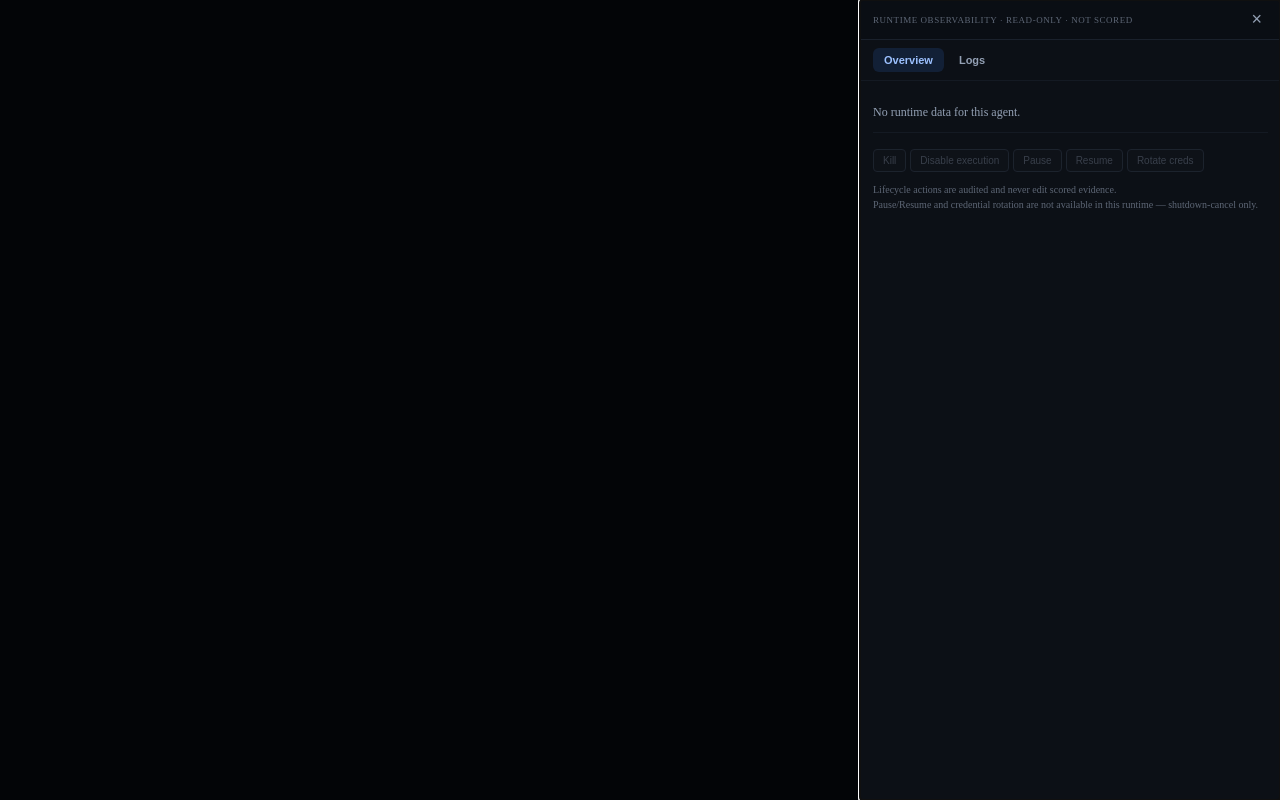
it: AgentOpsDrawer (REQ-030..032 / AC-003 / AC-030 / SEC-003 / F-6 live data) › HIDES OPS telemetry by default (canonical-only) and only shows it on explicit opt-in to All (#1 / SEC-003)
Click the tab "Logs" at [972, 60], box [948,48,996,72]
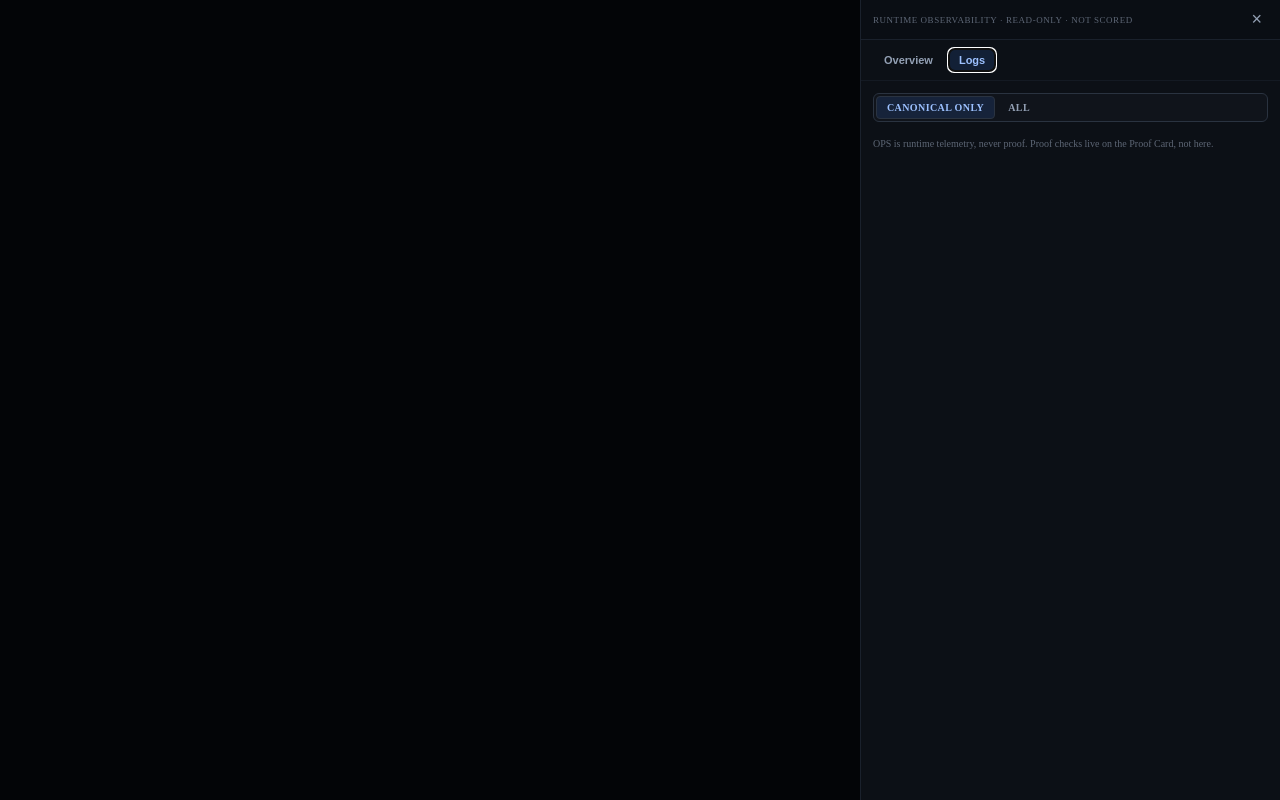
Expected: the element with test id "log" does not show "OPS"
explicit opt-in to the telemetry (All) view → OPS appears
Click the radio button labelled "All" at [1019, 108], box [997,96,1041,119]
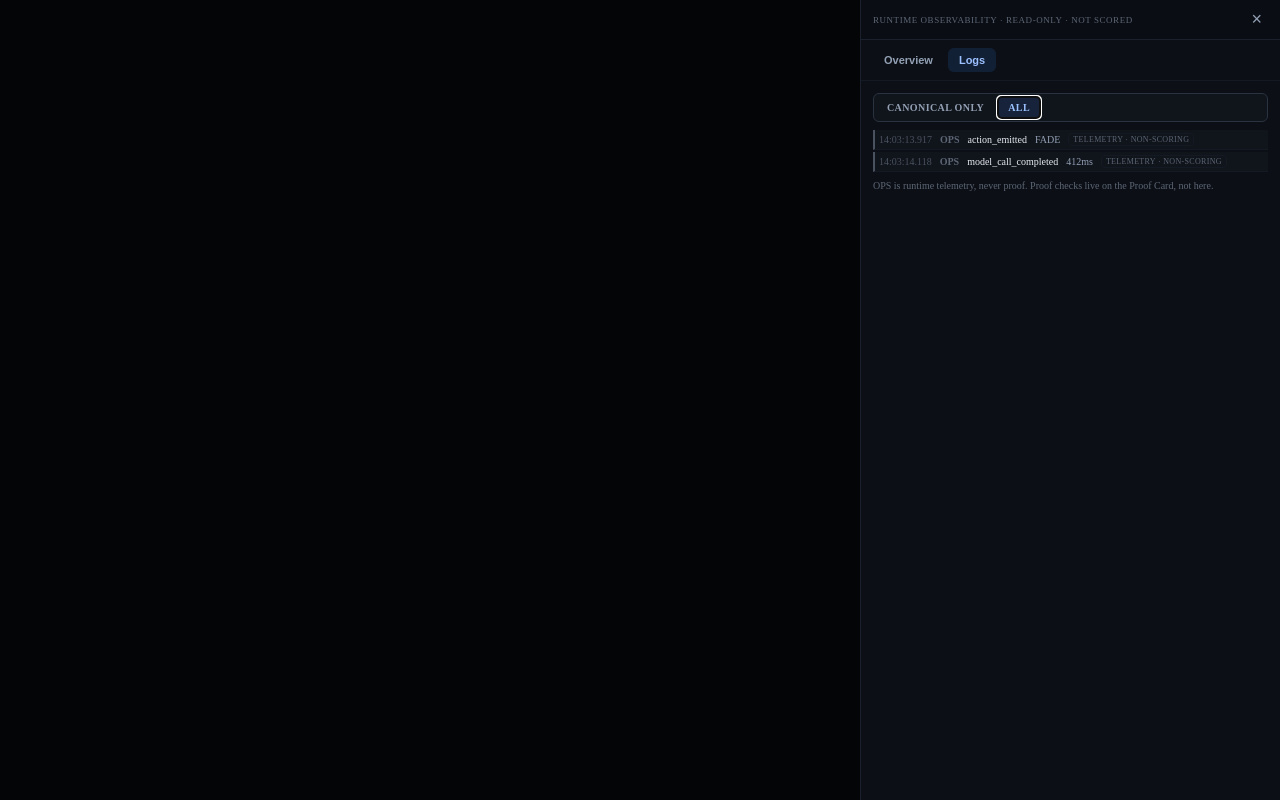
Expected: the element with test id "log" shows "OPS", [940,134,960,145]
